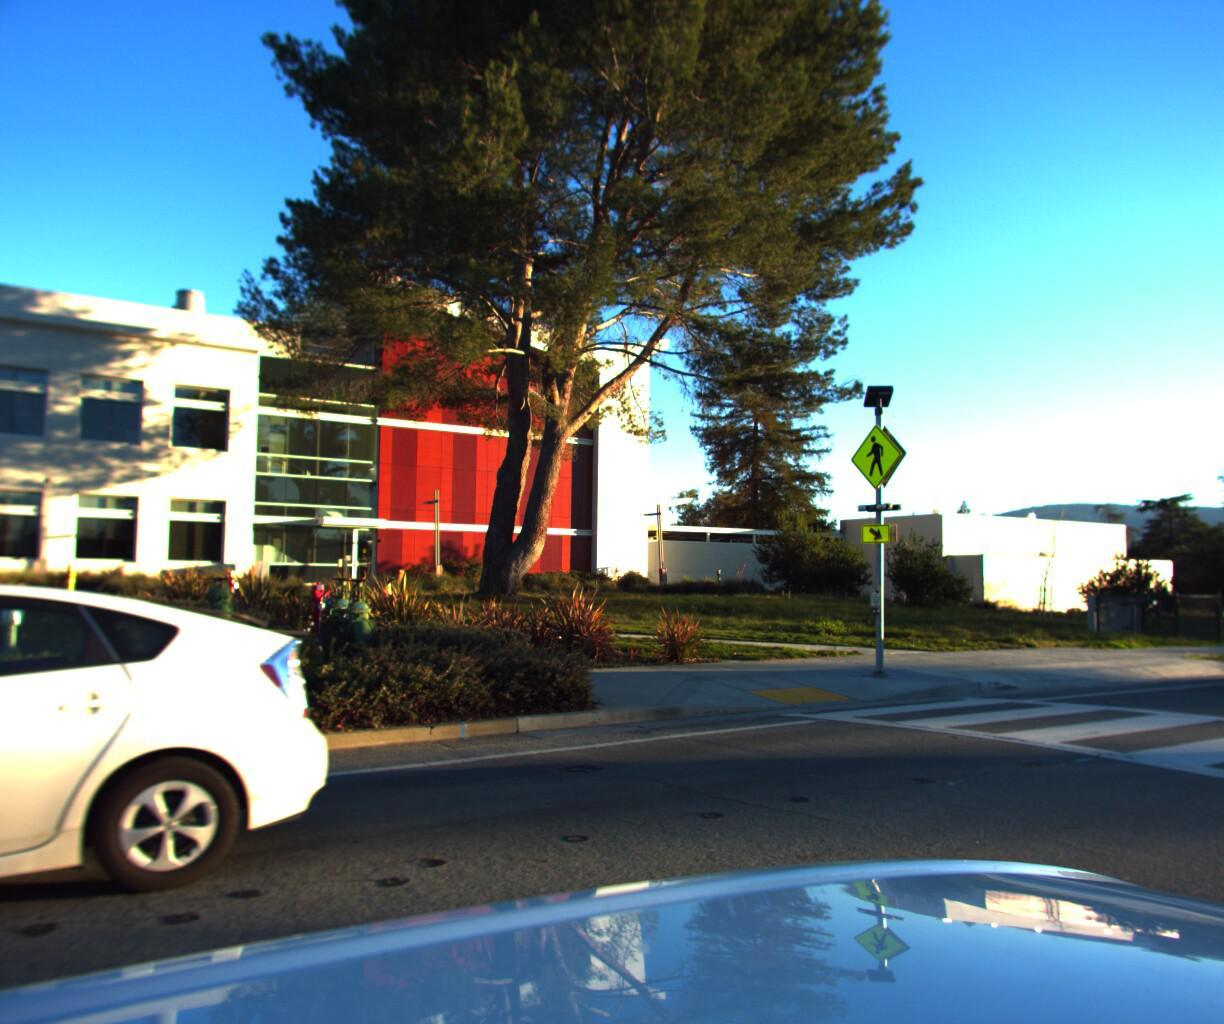car: (0, 585, 340, 1024), (1212, 584, 1224, 706)
